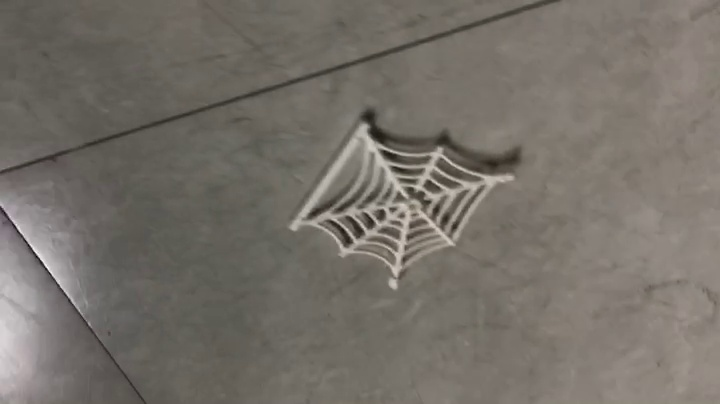web: (287, 108, 522, 293)
